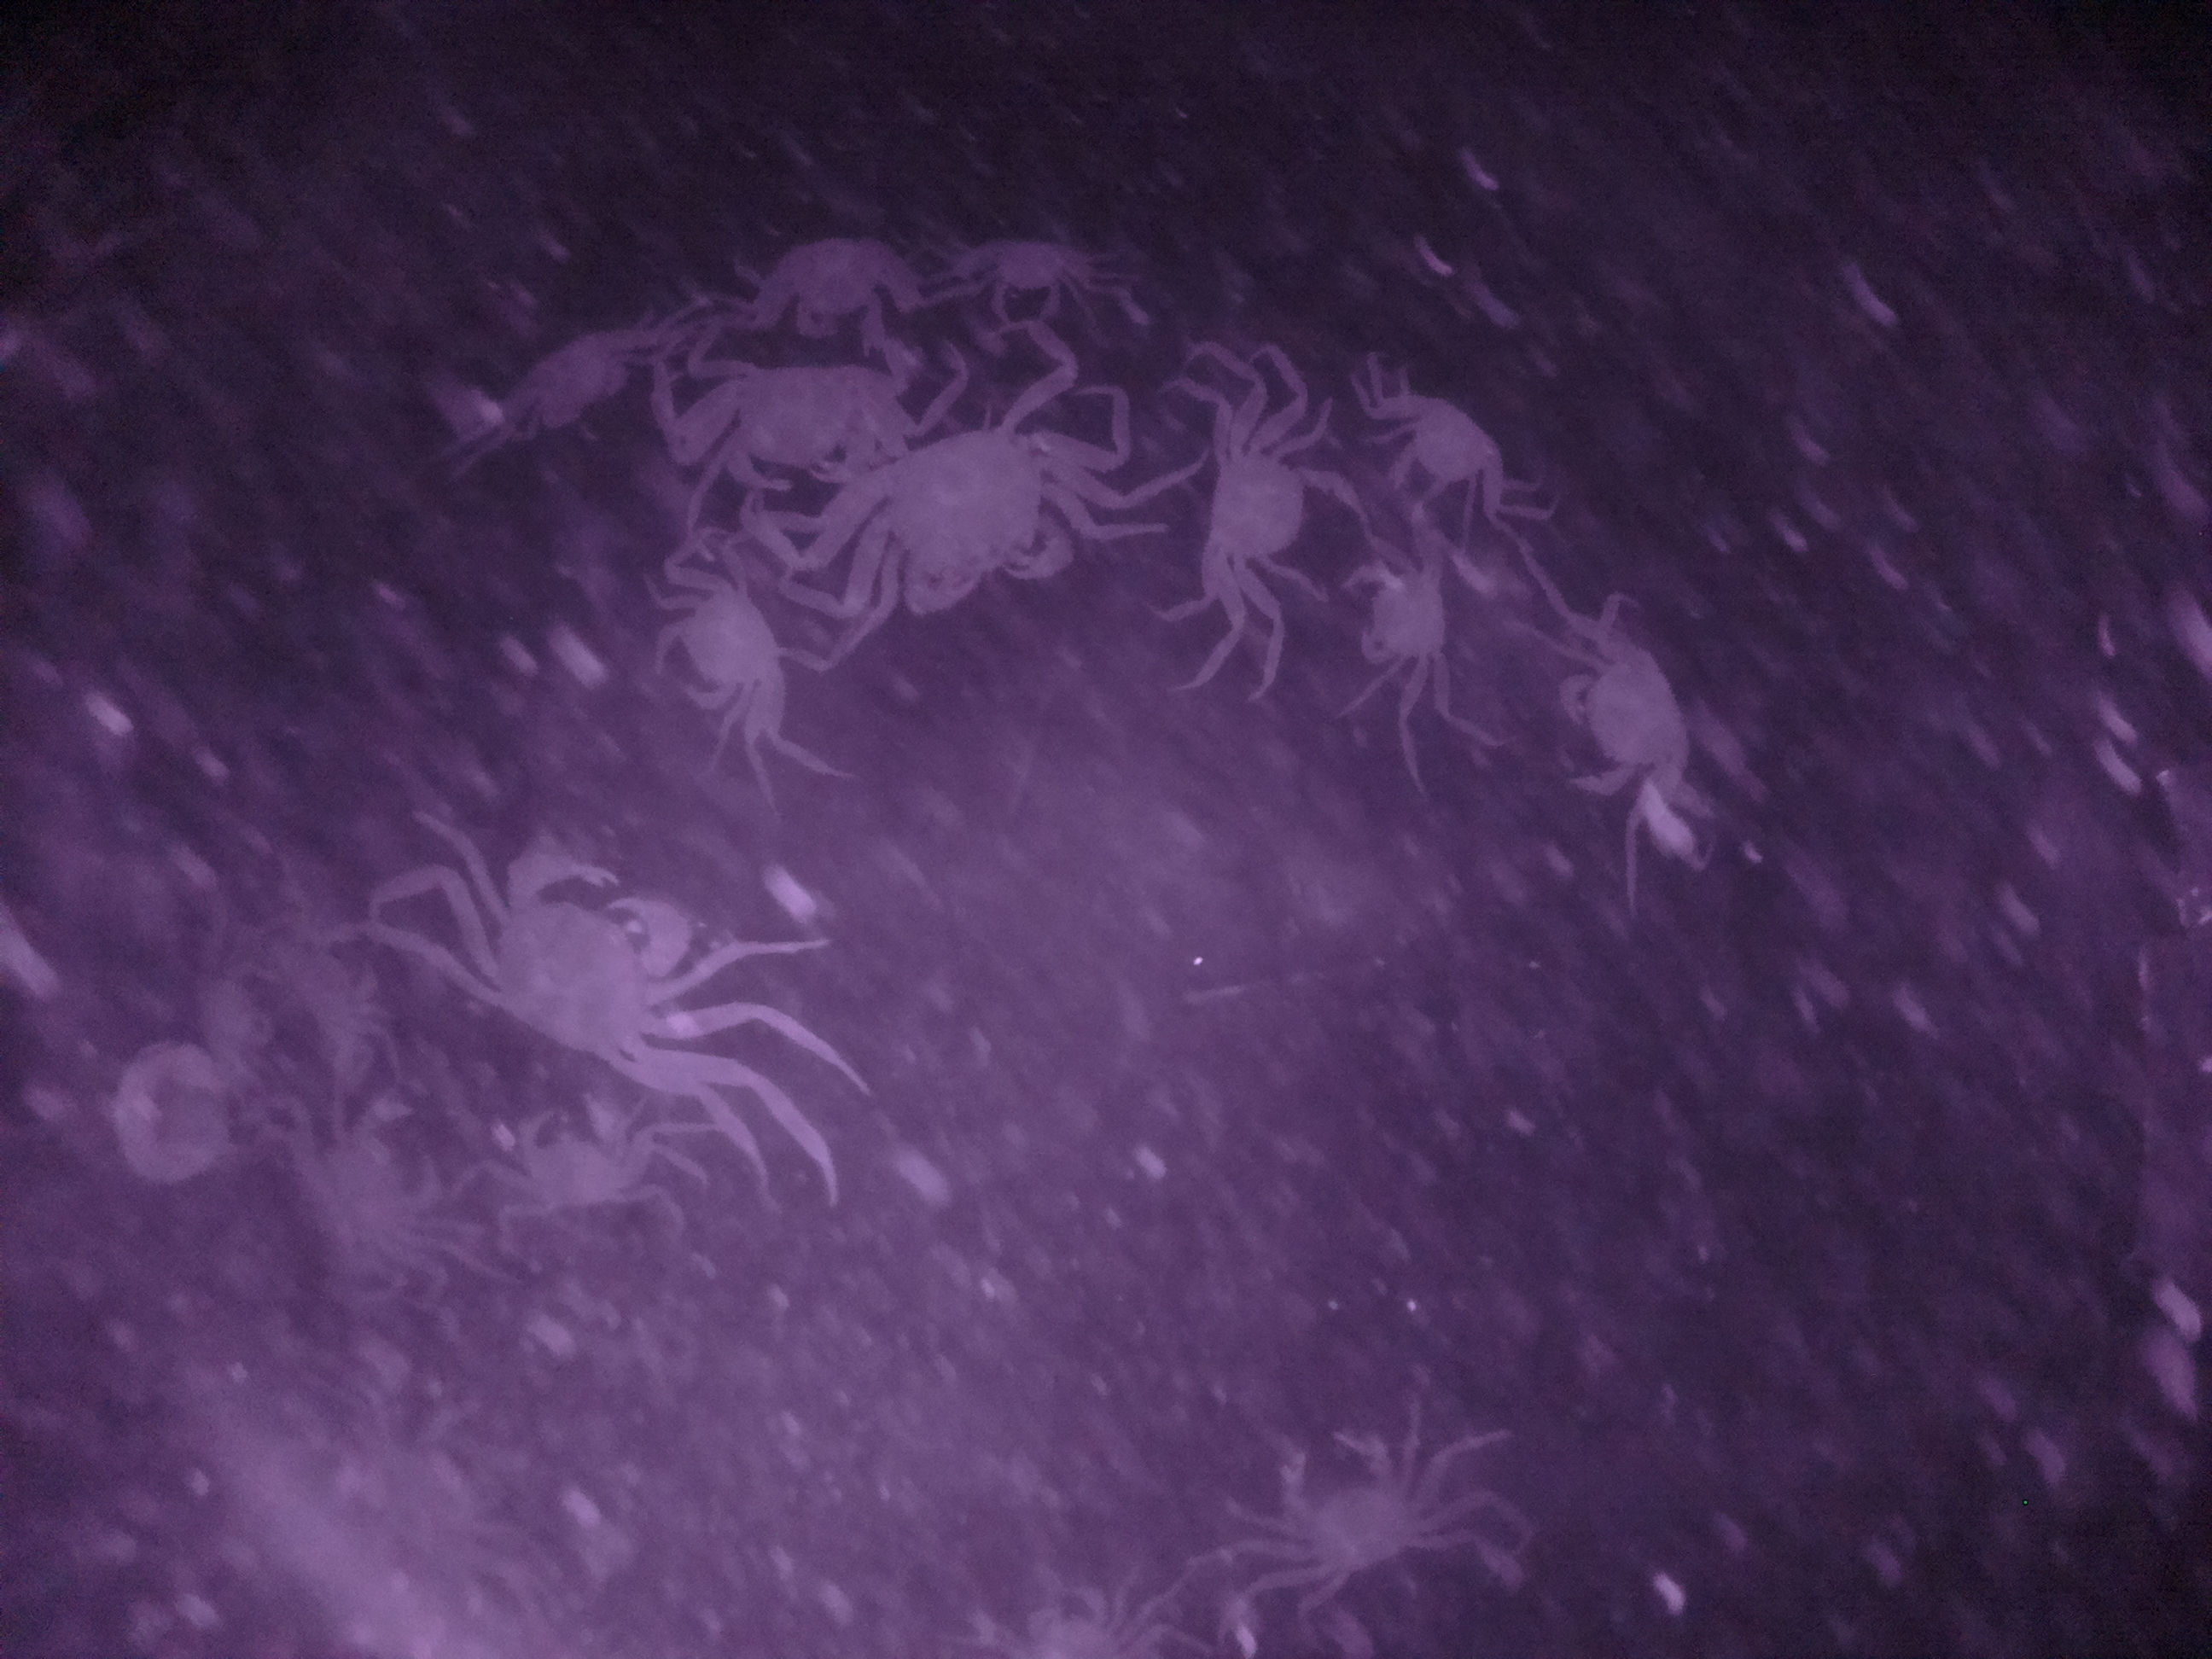Crab: (448, 833, 728, 1084), (843, 399, 1092, 631), (1251, 1408, 1446, 1607), (685, 345, 887, 497), (648, 551, 812, 732), (1177, 425, 1343, 591), (1538, 643, 1710, 802), (495, 1082, 683, 1223), (1376, 375, 1521, 528), (1332, 542, 1472, 685)
